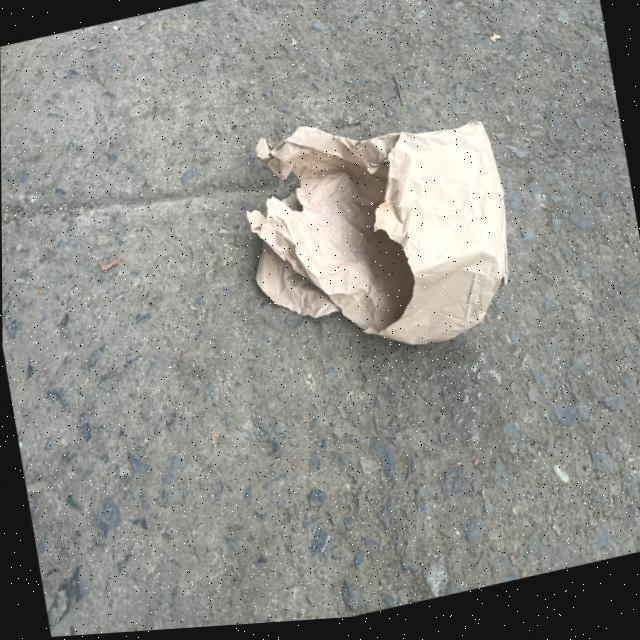Paper_Bag: (232, 91, 524, 384)
